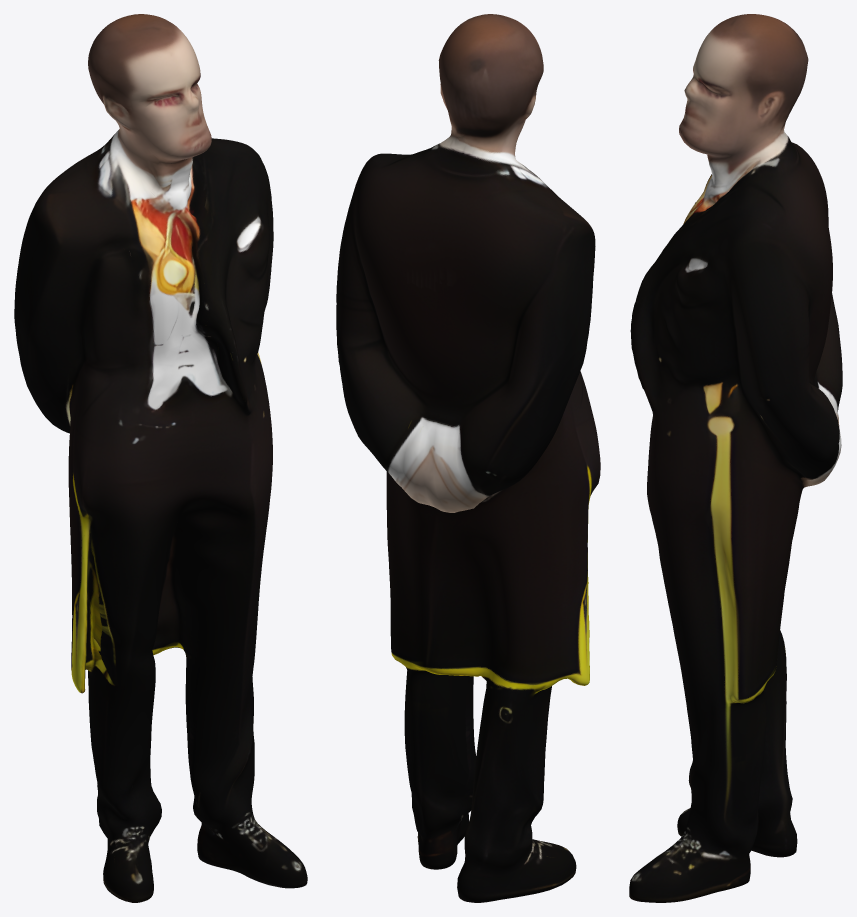
Rendered from estensoro.gltf.
The picture shows the model from 3 angles, left to right: view 1: azimuth 30°, elevation 25°; view 2: azimuth 150°, elevation 25°; view 3: azimuth 270°, elevation 25°; orthographic projection. The views are drawn at different scales.
Parts seen in each view (by area): view 1: model; view 2: model; view 3: model.
Boxes of the visible parts, <box> form: model: <box>14,14,307,902</box>; model: <box>336,14,600,902</box>; model: <box>629,14,842,902</box>.
Size of the model in its own units: 2.91 by 9.93 by 2.31.
Materials: 1 (1 with a texture image).
